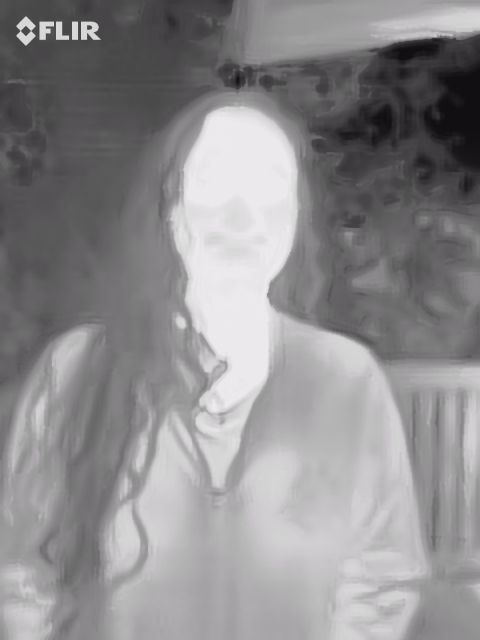head: (163, 98, 302, 293)
